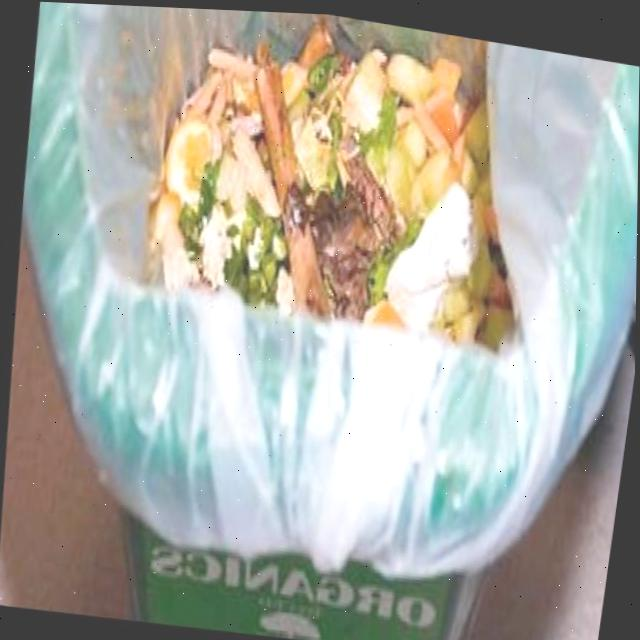Garbage: (19, 1, 640, 574)
Plastic: (19, 1, 640, 571)
